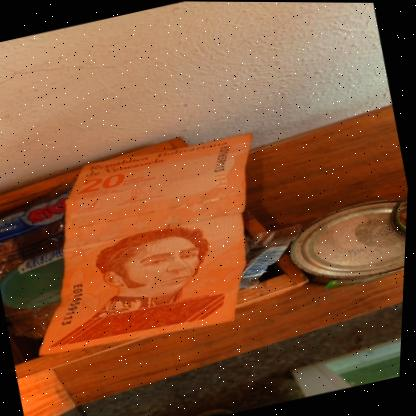twenty-front-vef: (2, 127, 294, 364)
